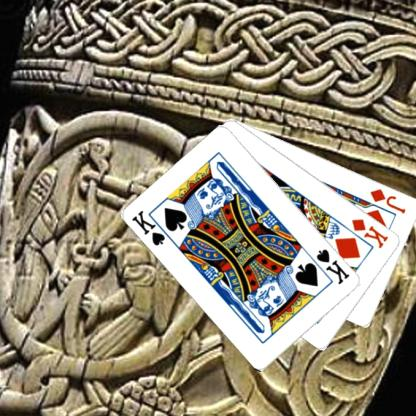JD: (367, 185, 408, 215)
KD: (349, 216, 390, 250)
KS: (129, 208, 174, 248), (314, 246, 352, 286)
